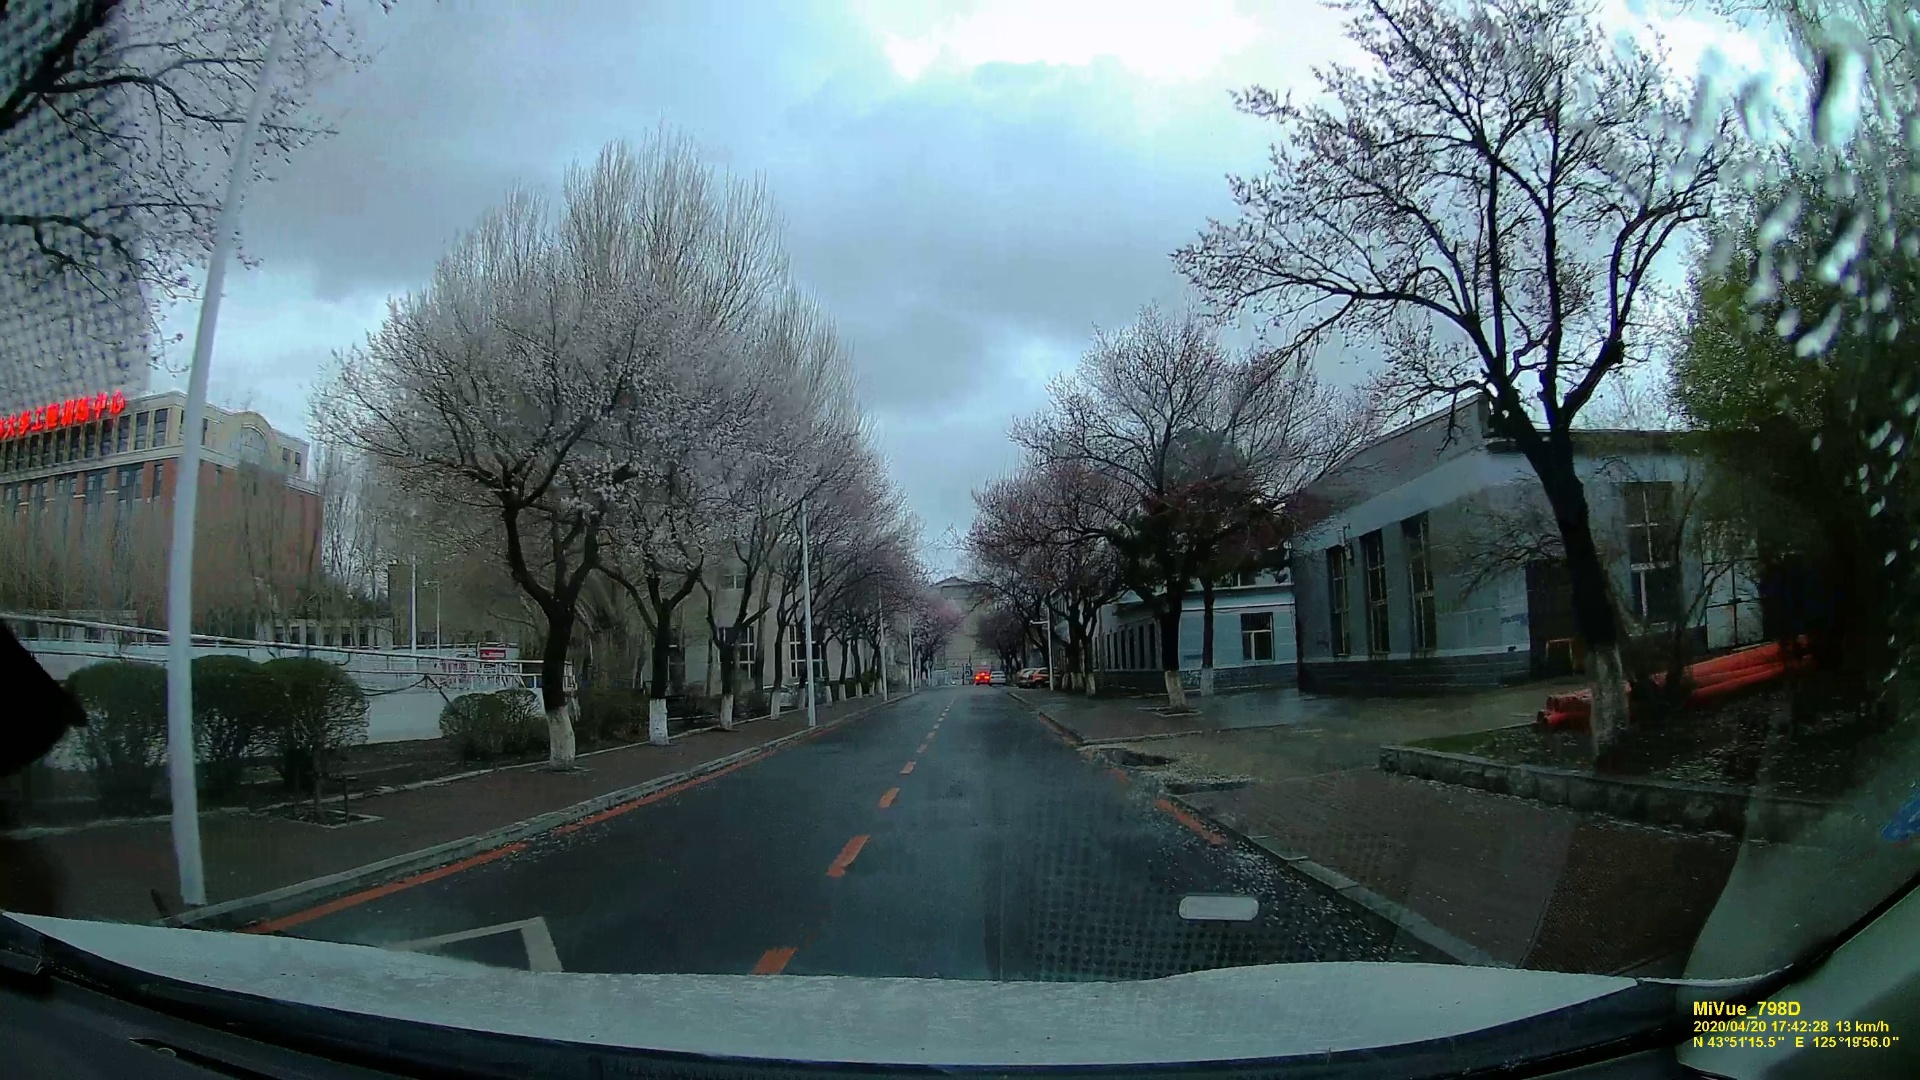vehicle: (1009, 666, 1040, 690), (969, 673, 985, 684)
